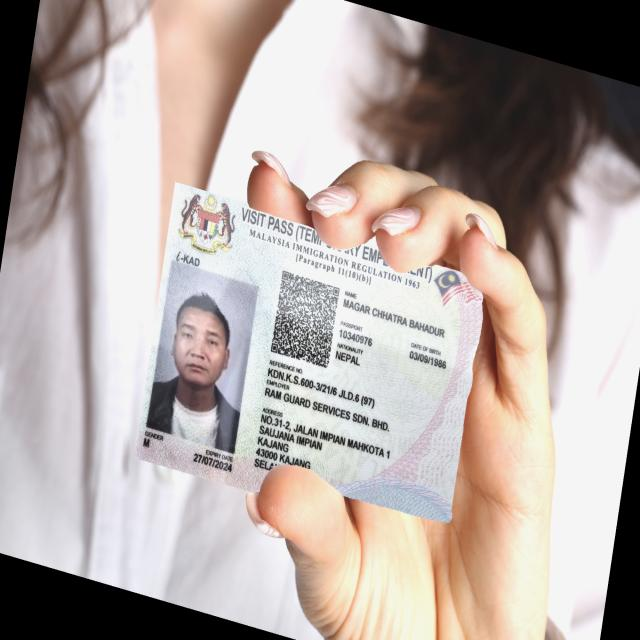ikad-temp: (135, 180, 484, 523)
